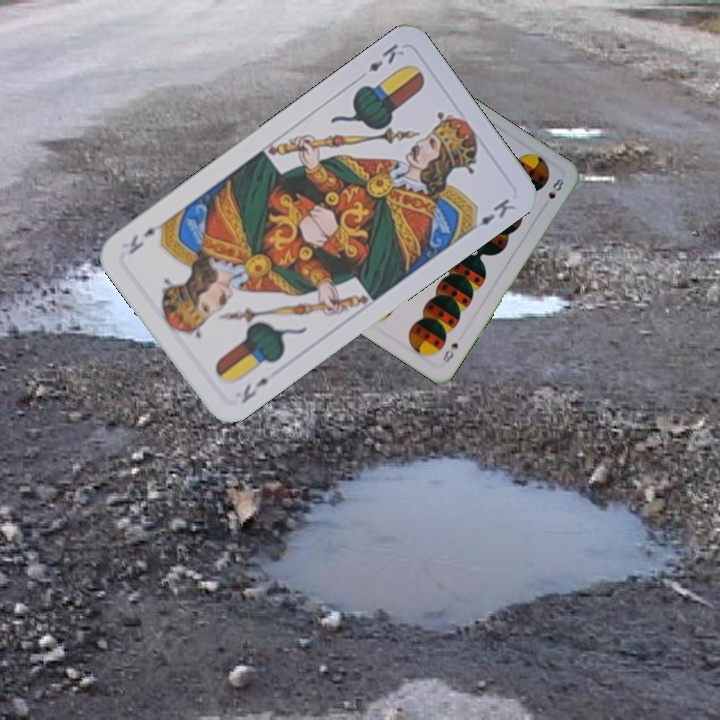EK: (364, 39, 407, 75), (237, 373, 272, 406)
S8: (437, 338, 461, 367)
